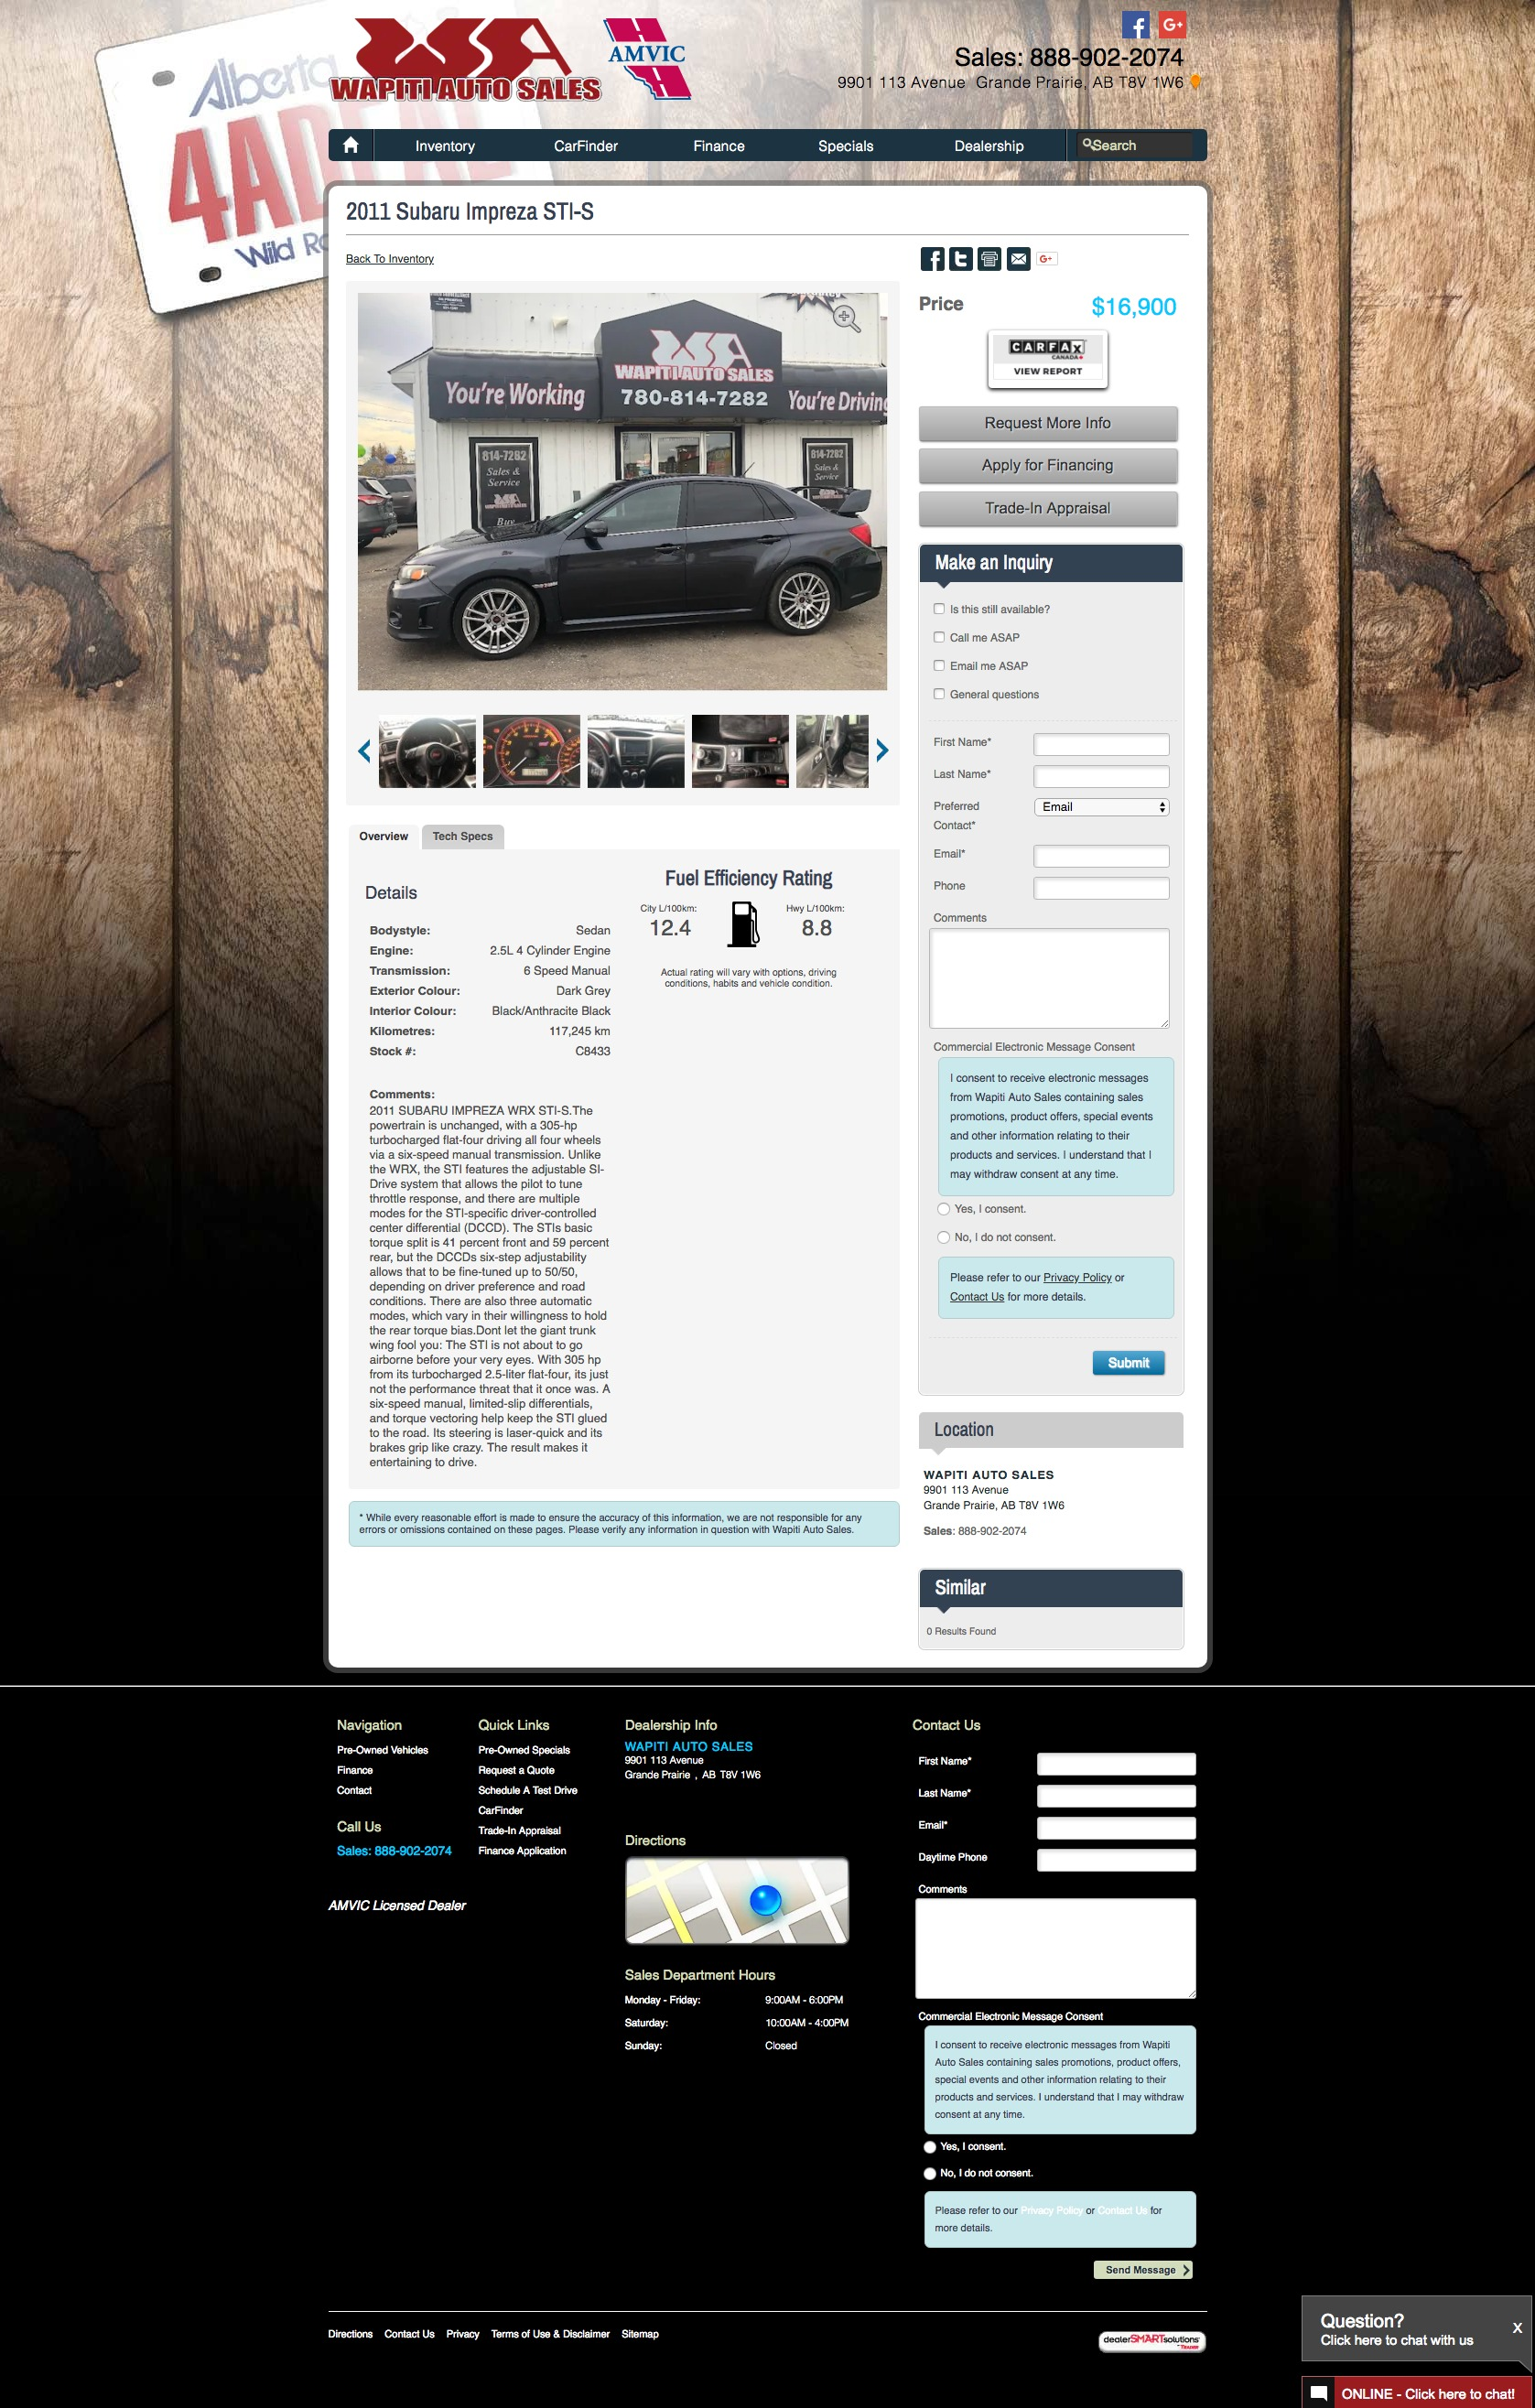car: (875, 737, 889, 763)
